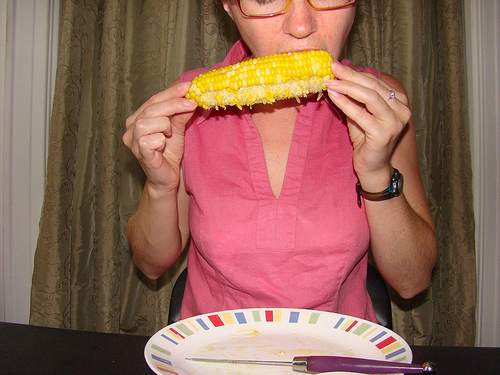corn: (186, 46, 336, 107)
